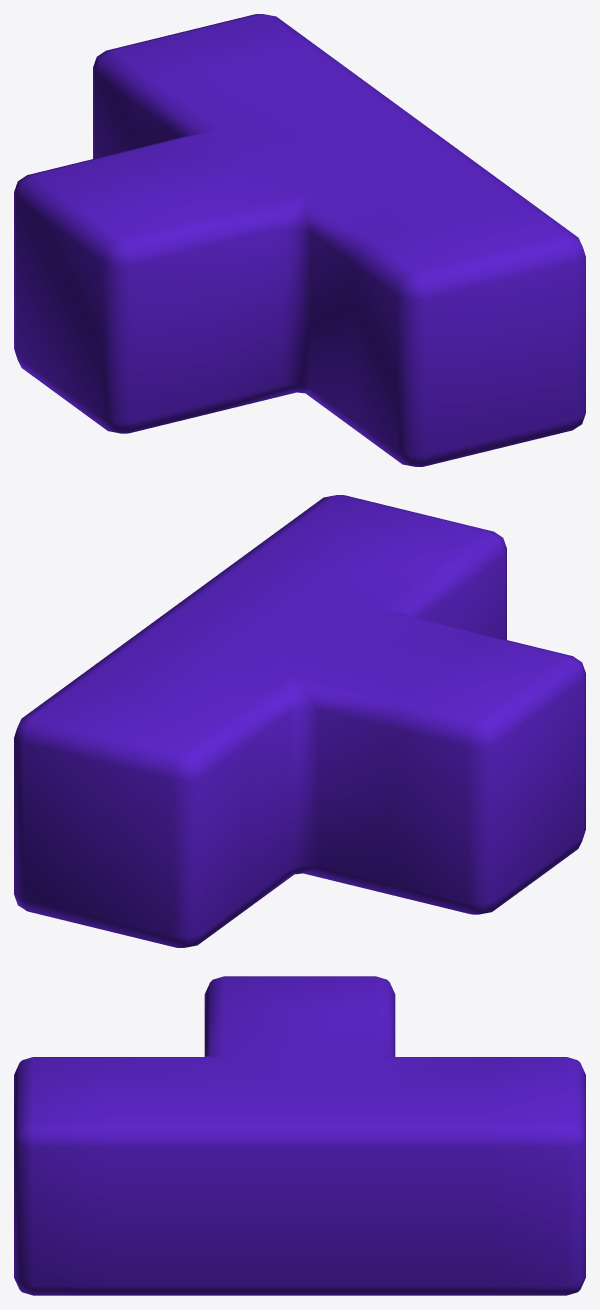
Rendered from tetrisT.obj.
3 renders of one model, top to bottom at view 1: azimuth 30°, elevation 25°; view 2: azimuth 150°, elevation 25°; view 3: azimuth 270°, elevation 25°, orthographic. The views are drawn at different scales.
Parts seen in each view (by area): view 1: Cube; view 2: Cube; view 3: Cube.
Part boxes in pixels (x1,y1,x2,y2): Cube: (14, 14, 585, 466); Cube: (14, 495, 585, 947); Cube: (14, 976, 585, 1295).
Bounding box in the file's own units: 0.3 × 0.15 × 0.45.
